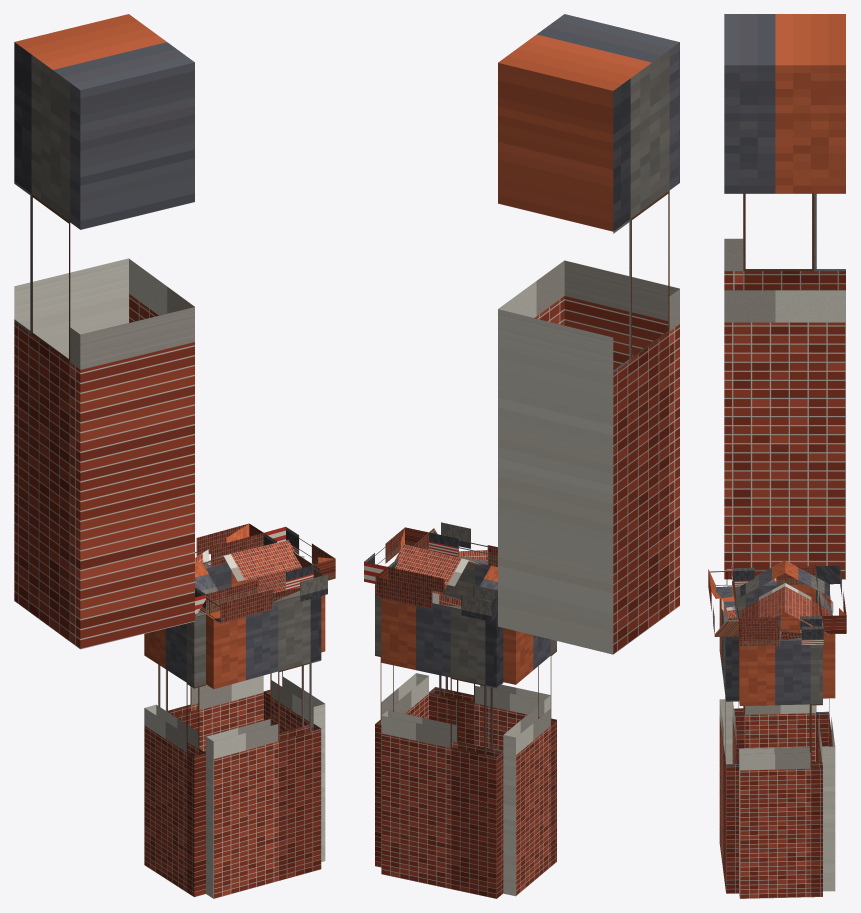
3 renders of one model, left to right at view 1: azimuth 30°, elevation 25°; view 2: azimuth 150°, elevation 25°; view 3: azimuth 270°, elevation 25°, orthographic. The views are drawn at different scales.
Parts seen in each view (by area): view 1: 1107107801__chimney_0_xb, 1107107801__wall_2_xb, 1107107801__wall_3_xb, 1107107801__wall_0_xb, 1107107801__cornice_2, 1107107801__wall_1_xb, 1107107801_roof_-1_xb, 1107107801__cornice_0, 1107107801__cornice_1; view 2: 1107107801__chimney_0_xb, 1107107801__wall_0_xb, 1107107801__wall_3_xb, 1107107801__wall_2_xb, 1107107801__cornice_0, 1107107801__wall_1_xb, 1107107801_roof_1_xb, 1107107801__cornice_2, 1107107801__cornice_1; view 3: 1107107801__chimney_0_xb, 1107107801__wall_1_xb, 1107107801__wall_2_xb, 1107107801__wall_3_xb, 1107107801__wall_0_xb, 1107107801__cornice_1, 1107107801_roof_-1_xb, 1107107801_roof_1_xb, 1107107801__cornice_0, 1107107801__cornice_2, 1107107801__cornice_3.
Boxes of the visible parts, <box> form: 1107107801__chimney_0_xb: <box>14,14,194,649</box>; 1107107801__wall_2_xb: <box>206,590,321,898</box>; 1107107801__wall_3_xb: <box>144,612,205,897</box>; 1107107801__wall_0_xb: <box>158,560,263,752</box>; 1107107801__cornice_2: <box>206,565,327,623</box>; 1107107801__wall_1_xb: <box>263,595,325,861</box>; 1107107801_roof_-1_xb: <box>195,540,302,610</box>; 1107107801__cornice_0: <box>195,523,263,567</box>; 1107107801__cornice_1: <box>263,526,335,580</box>; 1107107801__chimney_0_xb: <box>498,14,679,654</box>; 1107107801__wall_0_xb: <box>381,598,503,898</box>; 1107107801__wall_3_xb: <box>503,628,556,896</box>; 1107107801__wall_2_xb: <box>429,556,550,751</box>; 1107107801__cornice_0: <box>375,567,497,621</box>; 1107107801__wall_1_xb: <box>375,584,428,867</box>; 1107107801_roof_1_xb: <box>394,544,497,601</box>; 1107107801__cornice_2: <box>429,522,497,567</box>; 1107107801__cornice_1: <box>364,527,428,583</box>; 1107107801__chimney_0_xb: <box>724,14,845,579</box>; 1107107801__wall_1_xb: <box>739,637,822,898</box>; 1107107801__wall_2_xb: <box>719,586,738,893</box>; 1107107801__wall_3_xb: <box>732,581,815,761</box>; 1107107801__wall_0_xb: <box>816,590,835,891</box>; 1107107801__cornice_1: <box>739,616,823,646</box>; 1107107801_roof_-1_xb: <box>740,560,785,627</box>; 1107107801_roof_1_xb: <box>785,560,829,635</box>; 1107107801__cornice_0: <box>816,565,846,634</box>; 1107107801__cornice_2: <box>708,568,738,636</box>; 1107107801__cornice_3: <box>731,562,815,586</box>.
Size of the model in its own units: 0.3457 by 1.05 by 0.1705.
Materials: 1 (1 with a texture image).
